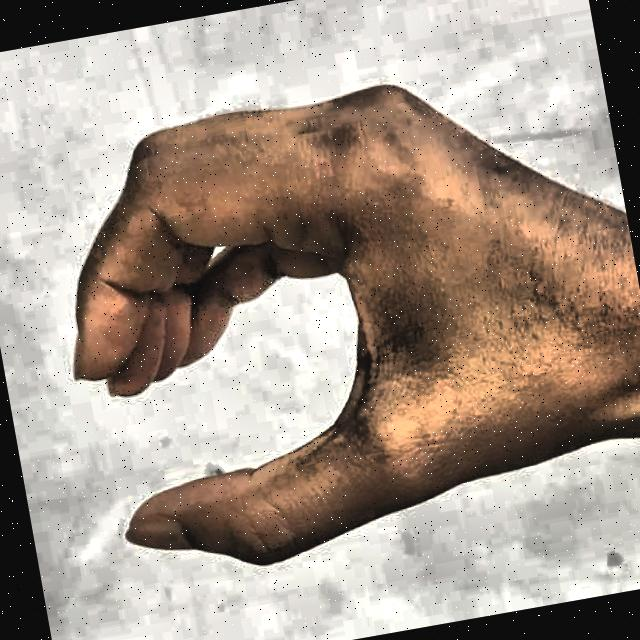Ka: (9, 16, 626, 640)
